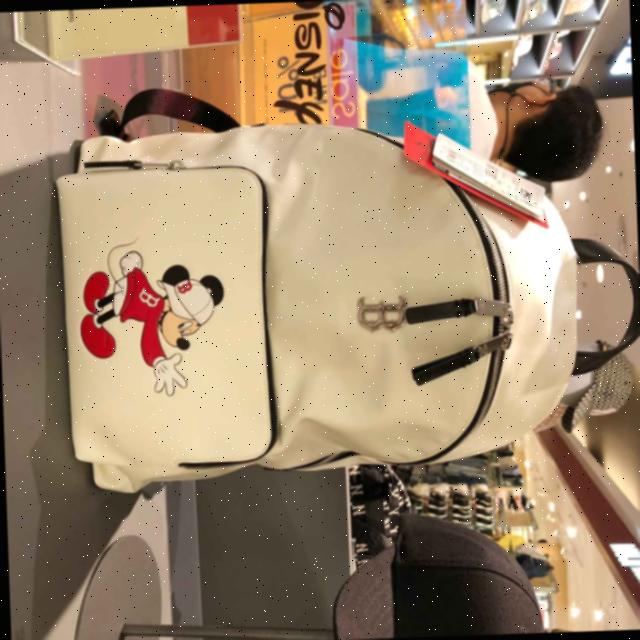Handbag: (52, 106, 594, 496)
